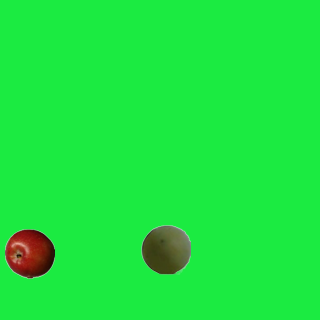Apple Braeburn: (4, 228, 54, 278)
Grape White 4: (140, 224, 190, 274)
